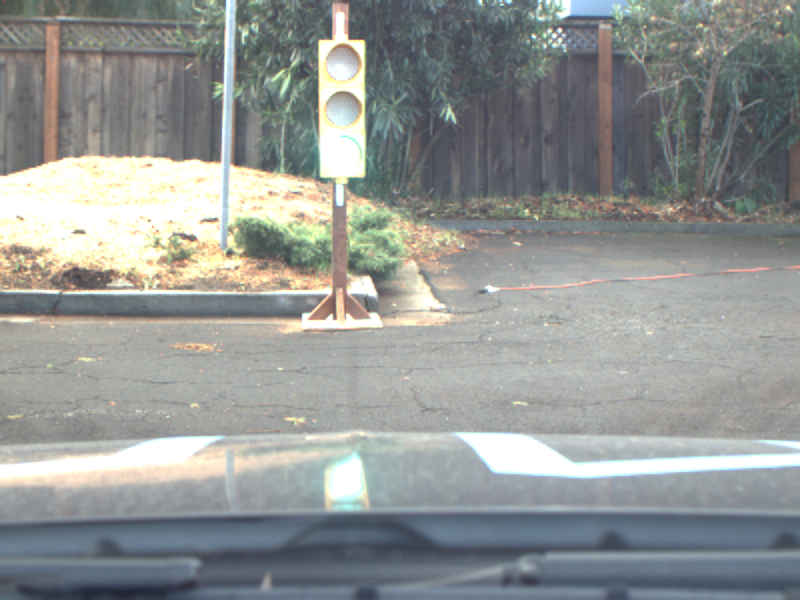Green: (317, 40, 367, 177)
